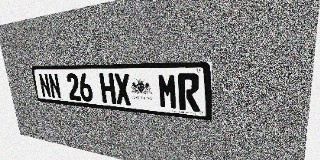2: (66, 73, 81, 101)
6: (77, 73, 93, 102)
H: (99, 73, 116, 104)
M: (157, 73, 178, 110)
N: (48, 73, 62, 99), (38, 73, 52, 98)
R: (178, 73, 200, 112)
X: (113, 73, 132, 105)
